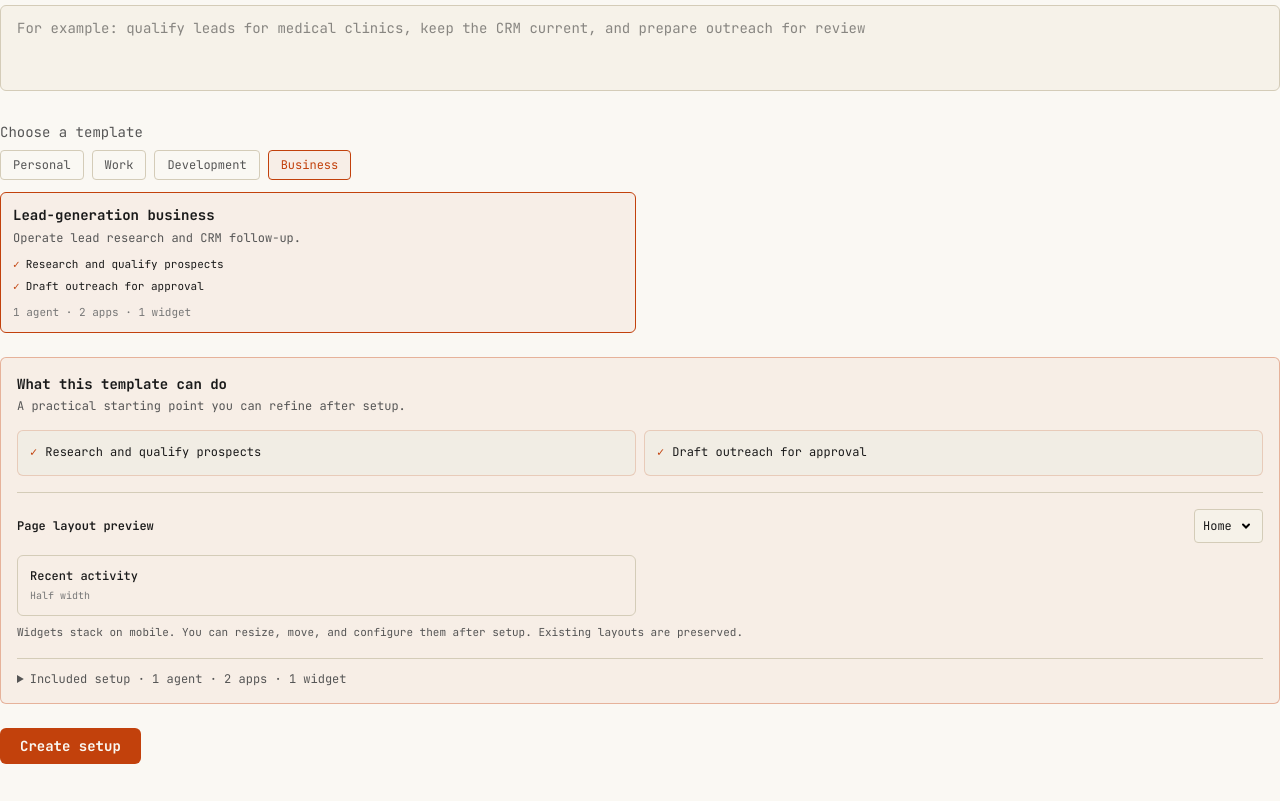
Test: ProjectPresetSetup › creates every preset agent with authoritative preset app assignments
Step 1. Replace the text in the text box labelled "What should these agents help with?" with "Qualify medical clinic leads and prepare outreach for review" → (640, 48), box [0,5,1279,91]
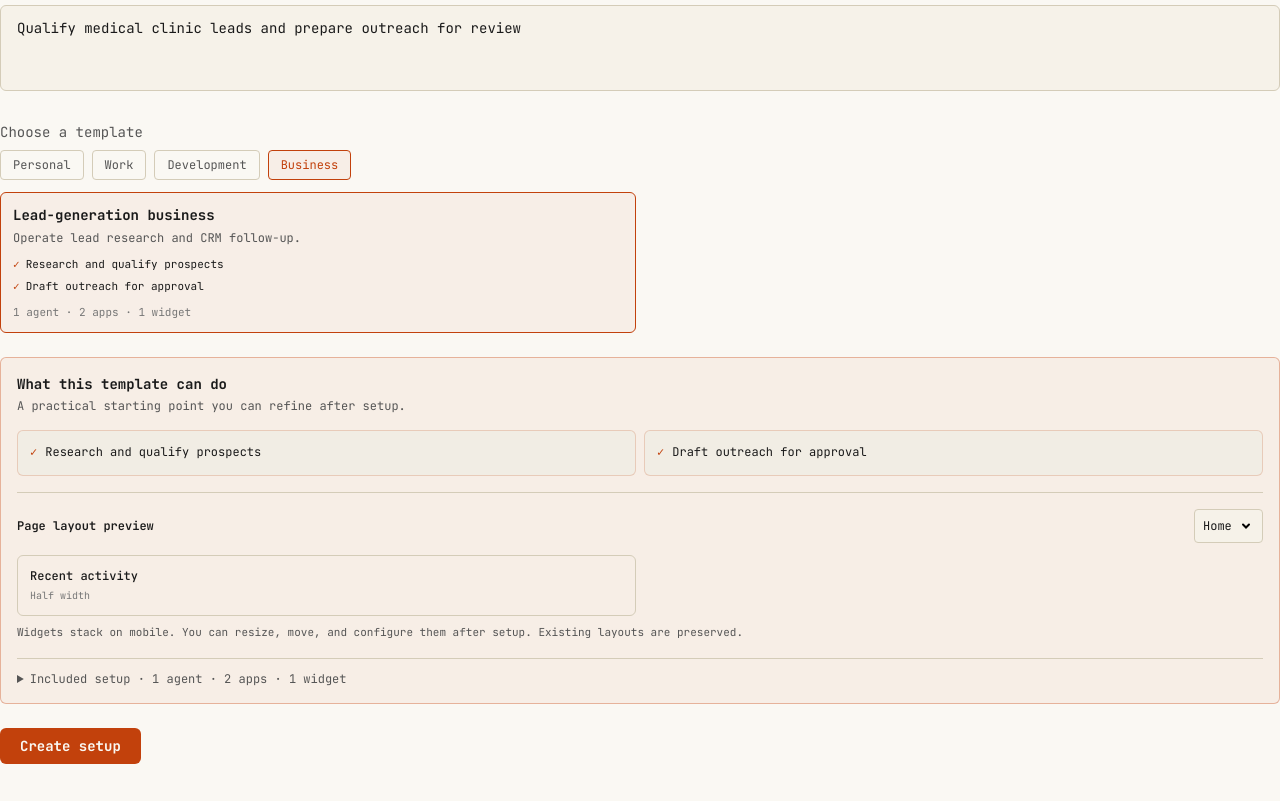
Check: the element "What this template can do" is shown, box [0,357,1279,704]
Check: the text "Draft outreach for approval" below "Choose a template" is shown, box [26,279,204,293]
Step 2. Click the heading "Included setup · 1 agent · 2 apps · 1 widget" → (188, 679), box [30,671,346,687]
(page scrolled)
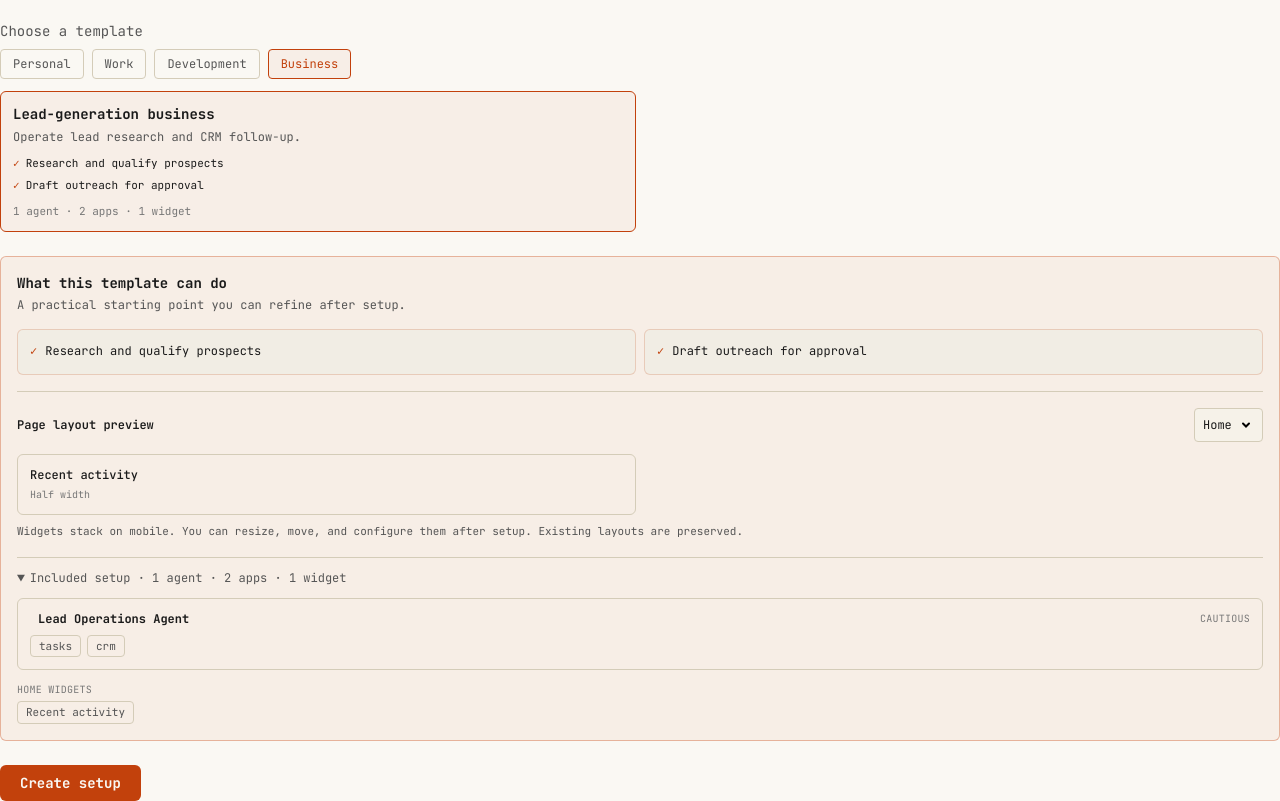
Check: the text "Lead Operations Agent" is shown, box [30,611,189,627]
Check: the text "crm" is shown, box [87,635,125,657]
Step 3. Click the button "Create setup" → (70, 783), box [0,765,141,800]
(page scrolled)
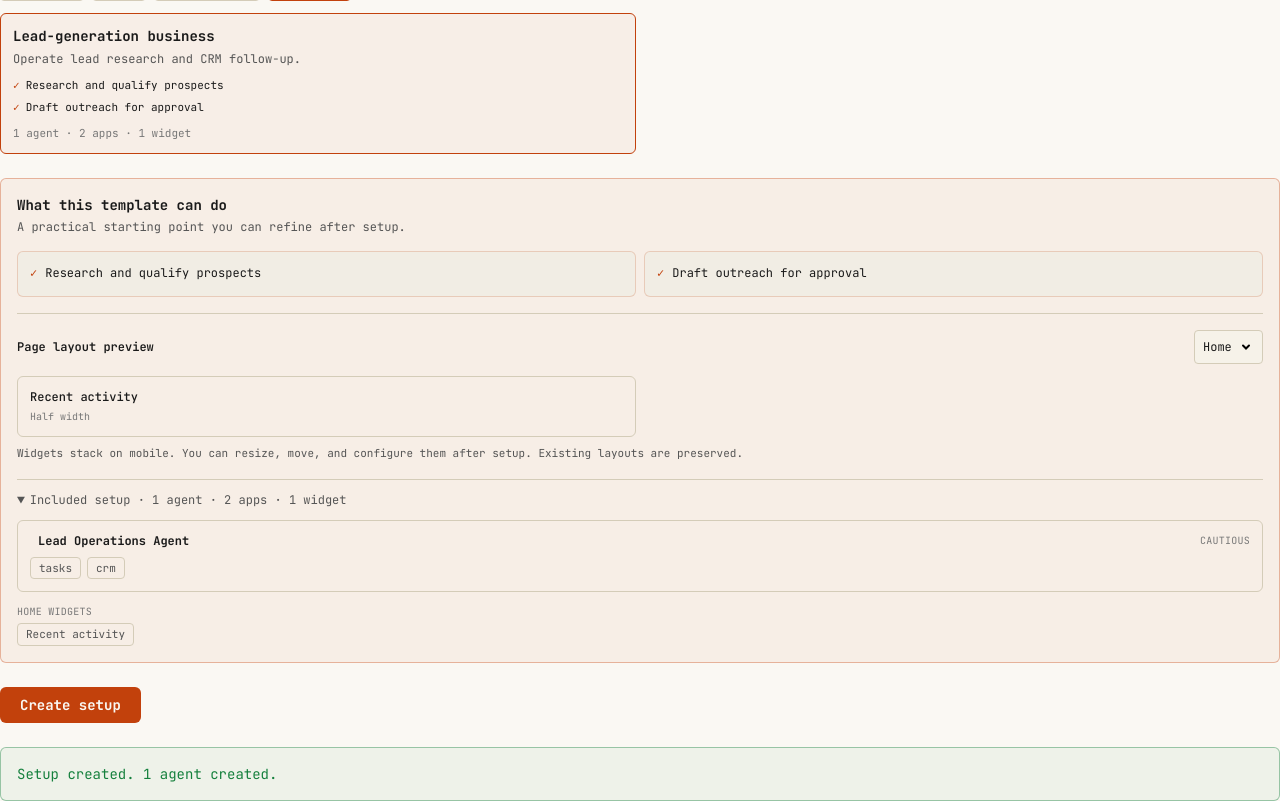
Check: the text "Setup created. 1 agent created." is shown, box [0,747,1279,800]
